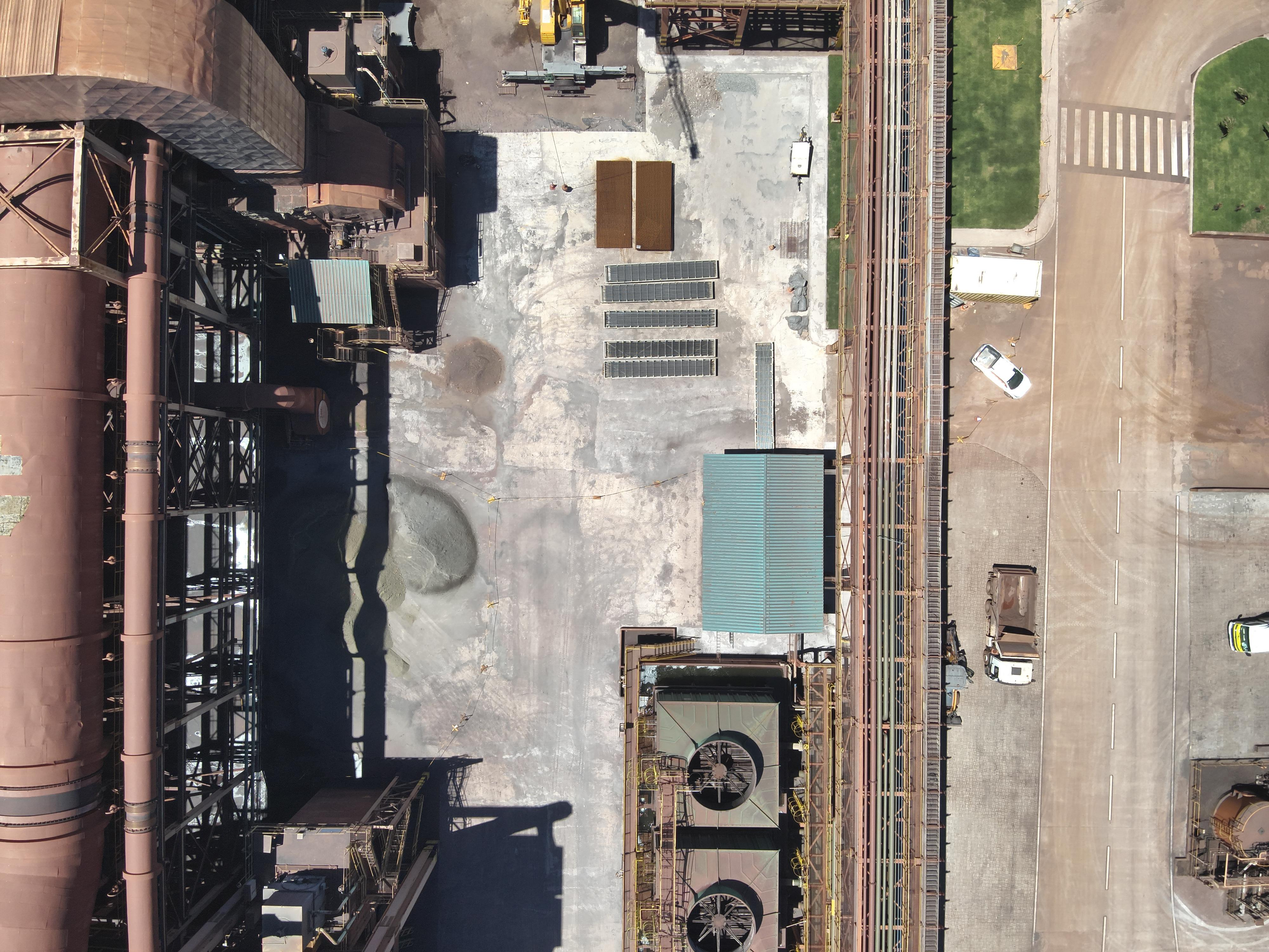Failures: (232, 199, 318, 232), (0, 493, 34, 538), (1, 453, 27, 480)
